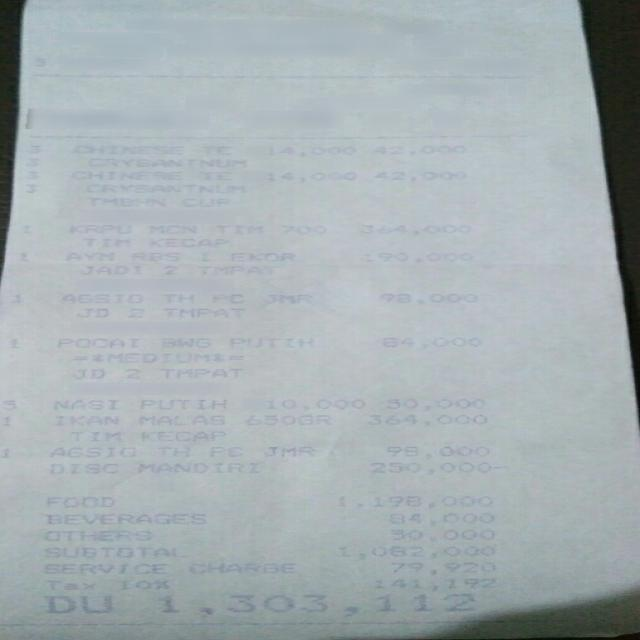text: (156, 592, 480, 616), (332, 542, 494, 560), (337, 492, 493, 510), (360, 459, 509, 475), (361, 577, 500, 593), (49, 544, 184, 560), (340, 413, 494, 427), (130, 460, 262, 476), (39, 560, 171, 576), (384, 510, 496, 528), (43, 512, 202, 524), (201, 144, 356, 156), (381, 443, 488, 459), (72, 353, 241, 363), (76, 183, 242, 193), (80, 157, 244, 167), (379, 396, 479, 412), (186, 561, 297, 575), (274, 396, 370, 412), (388, 561, 493, 575), (389, 529, 492, 543), (357, 223, 469, 235), (72, 169, 181, 181), (133, 412, 223, 426), (238, 413, 328, 427), (77, 144, 181, 156), (44, 594, 111, 612), (152, 365, 243, 378), (379, 336, 476, 348), (36, 530, 150, 540), (367, 252, 470, 262), (161, 306, 246, 318), (138, 430, 222, 442), (274, 170, 357, 182), (195, 264, 275, 276), (380, 292, 474, 302), (35, 496, 112, 508), (373, 171, 464, 181), (46, 462, 120, 474), (138, 398, 225, 408), (56, 292, 140, 302), (49, 446, 133, 456), (79, 196, 162, 206), (228, 336, 310, 346), (63, 222, 131, 234), (148, 237, 228, 247), (56, 336, 134, 346), (371, 145, 463, 153), (220, 250, 293, 260), (45, 415, 117, 425), (76, 264, 144, 274), (146, 222, 195, 235), (215, 223, 268, 235), (52, 399, 115, 409), (118, 580, 167, 592), (160, 337, 208, 349), (196, 292, 243, 304), (260, 445, 312, 455), (68, 430, 118, 440), (130, 251, 178, 261), (278, 224, 323, 234), (180, 198, 228, 207), (198, 170, 232, 182), (63, 252, 112, 260), (44, 580, 91, 588), (158, 444, 188, 456), (278, 292, 307, 304), (71, 368, 103, 378), (207, 446, 239, 456), (83, 238, 127, 245), (161, 293, 191, 303), (75, 308, 107, 317), (0, 398, 17, 410), (160, 264, 176, 274), (16, 224, 32, 234), (8, 337, 20, 349), (124, 368, 138, 378), (22, 183, 36, 193), (8, 293, 22, 303), (21, 170, 38, 178), (0, 415, 12, 426), (126, 308, 140, 317), (16, 251, 28, 261), (22, 158, 36, 166), (0, 446, 9, 458), (25, 144, 38, 152), (199, 250, 205, 260)
